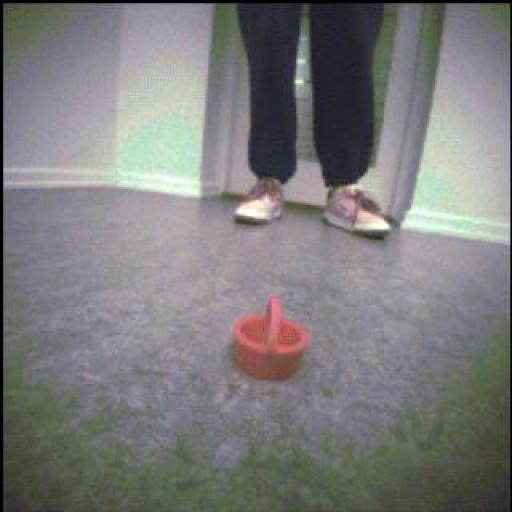Bucket: (233, 290, 308, 384)
